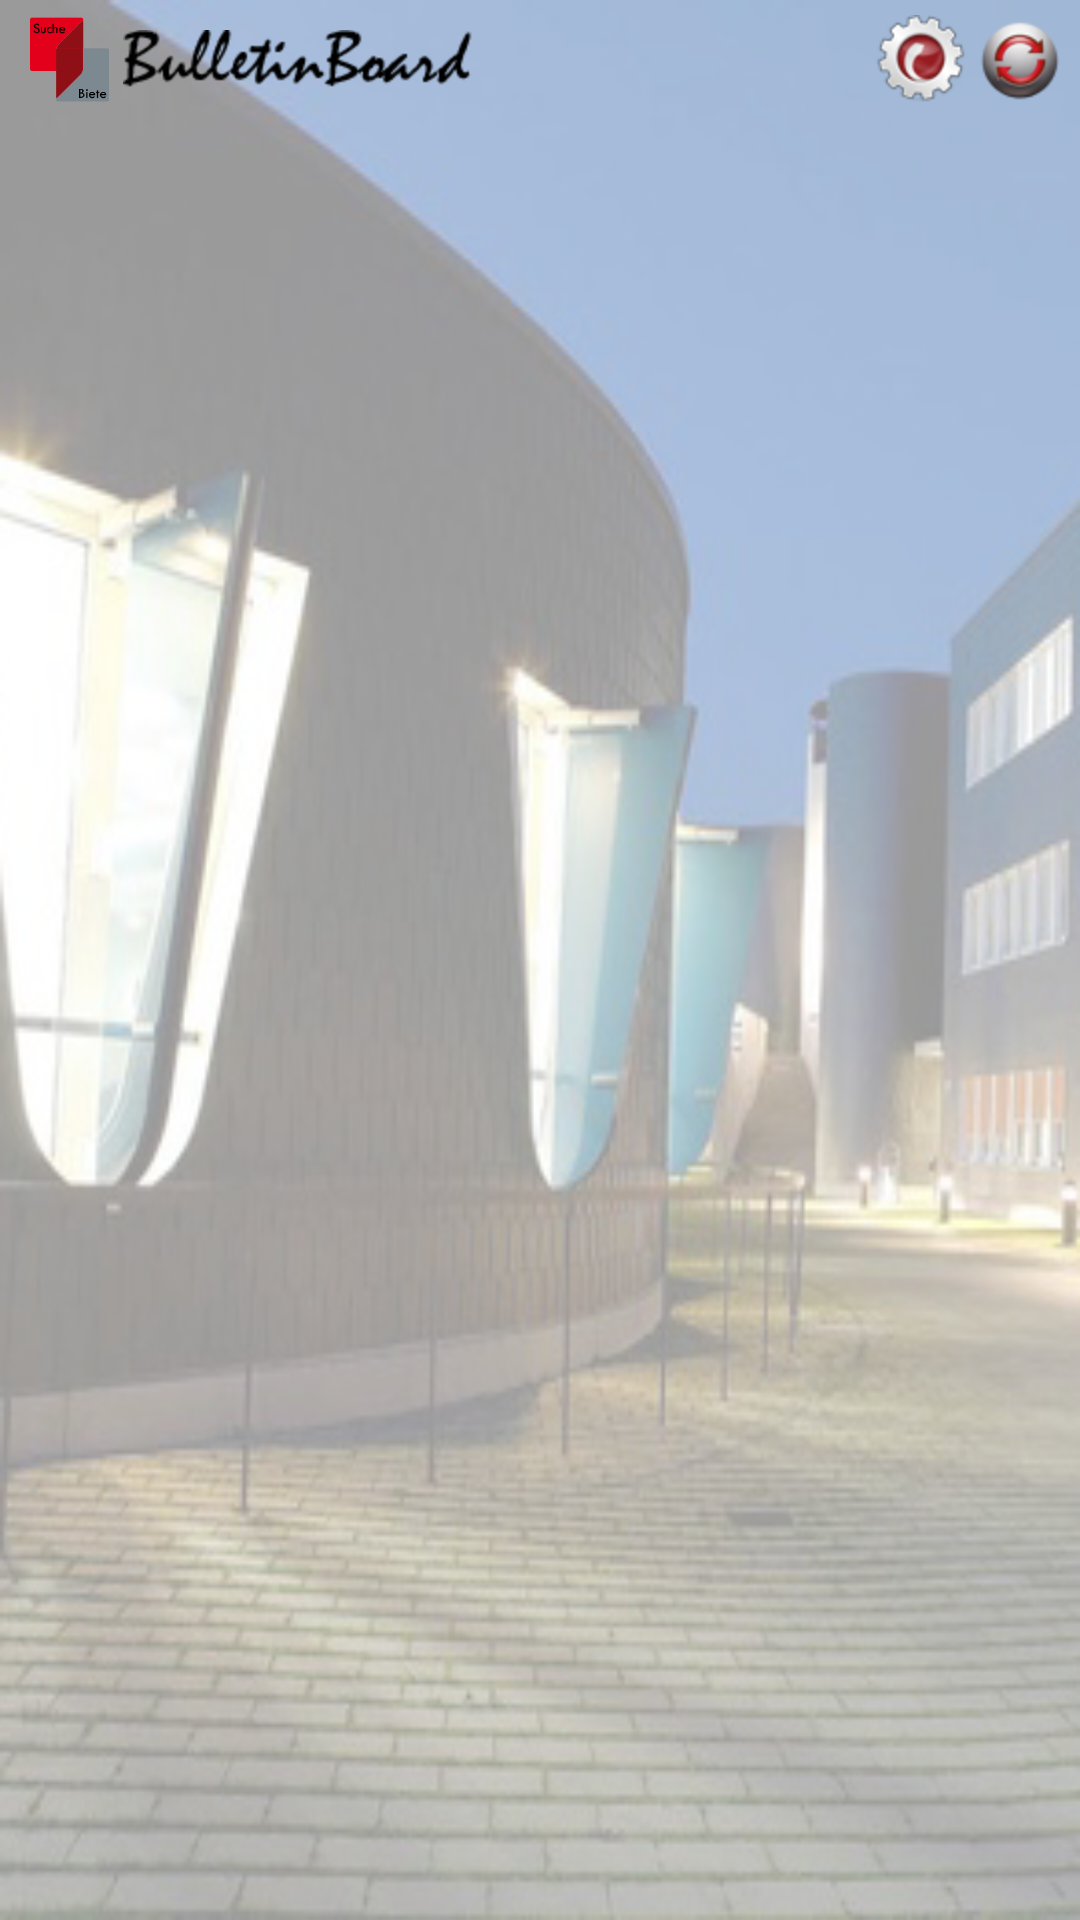

Icon bounding boxes for this 1080 x 1920 phone screenshot, format {"left": x1, "top": y1, "right": x2, "bottom": y2}:
sync: {"left": 982, "top": 23, "right": 1058, "bottom": 99}
widget config: {"left": 878, "top": 15, "right": 964, "bottom": 101}
